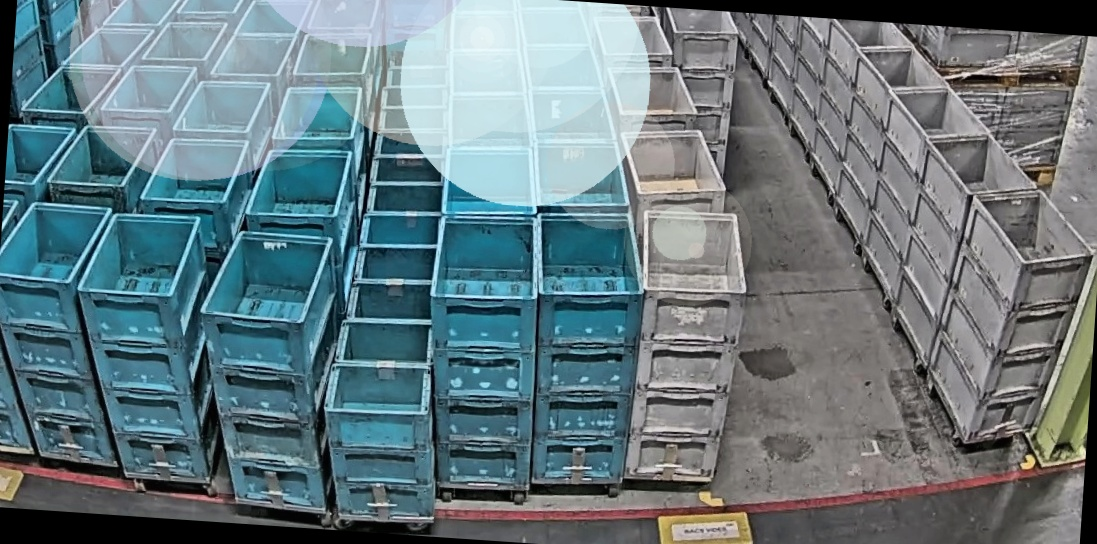4G: (923, 182, 1097, 453), (625, 208, 752, 485)
B4: (67, 204, 238, 484), (187, 228, 350, 509), (415, 211, 546, 490), (521, 208, 648, 487), (0, 201, 133, 464)
B8: (315, 312, 448, 521)
